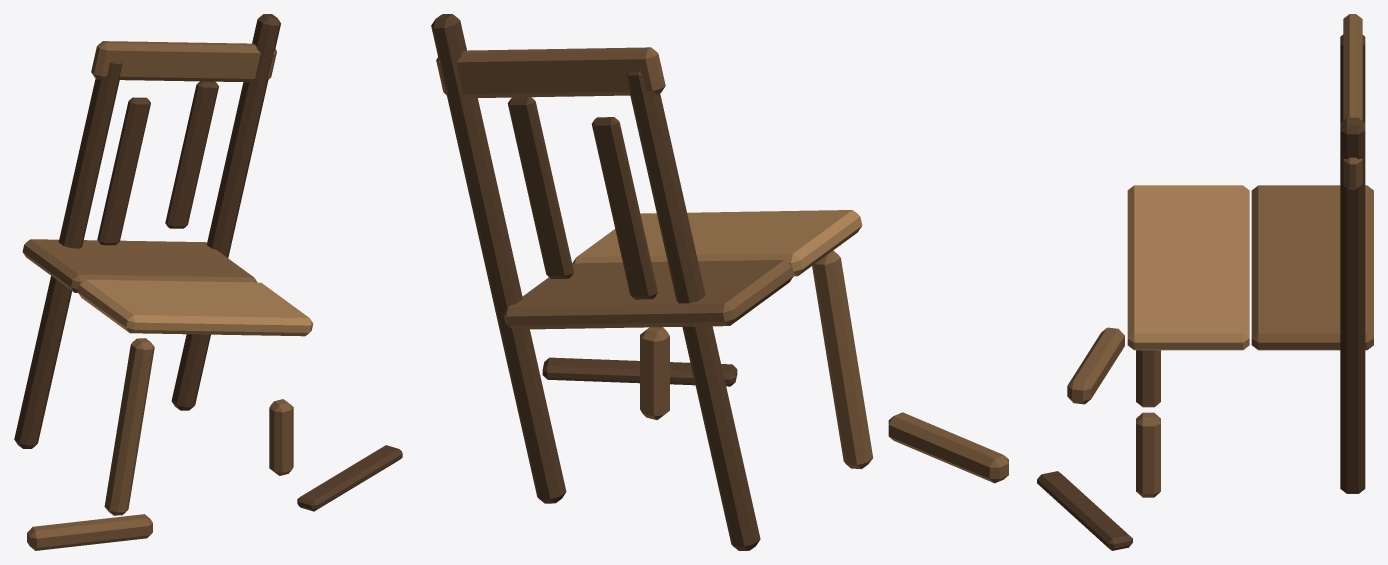
File: chair_wood_derevyannyy_broken.glb
3 renders of one model, left to right at view 1: azimuth 30°, elevation 25°; view 2: azimuth 150°, elevation 25°; view 3: azimuth 270°, elevation 25°, orthographic. The views are drawn at different scales.
Parts seen in each view (by area): view 1: chair_wood_derevyannyy_broken; view 2: chair_wood_derevyannyy_broken; view 3: chair_wood_derevyannyy_broken.
Part boxes in pixels (x1,y1,x2,y2): chair_wood_derevyannyy_broken: (14, 14, 402, 550); chair_wood_derevyannyy_broken: (431, 14, 1008, 550); chair_wood_derevyannyy_broken: (1037, 14, 1373, 550).
Bounding box in the file's own units: 0.8803 × 0.8694 × 0.6098.
Materials: 1 (1 with a texture image).
